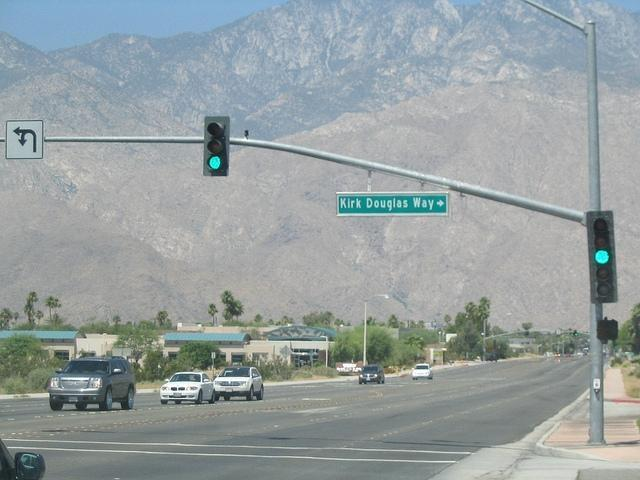car: (41, 353, 138, 415), (0, 439, 46, 480), (160, 371, 216, 404), (212, 366, 264, 401), (358, 364, 386, 384), (412, 364, 434, 380), (480, 355, 500, 362), (554, 353, 564, 357), (577, 352, 585, 356), (566, 354, 572, 357)
